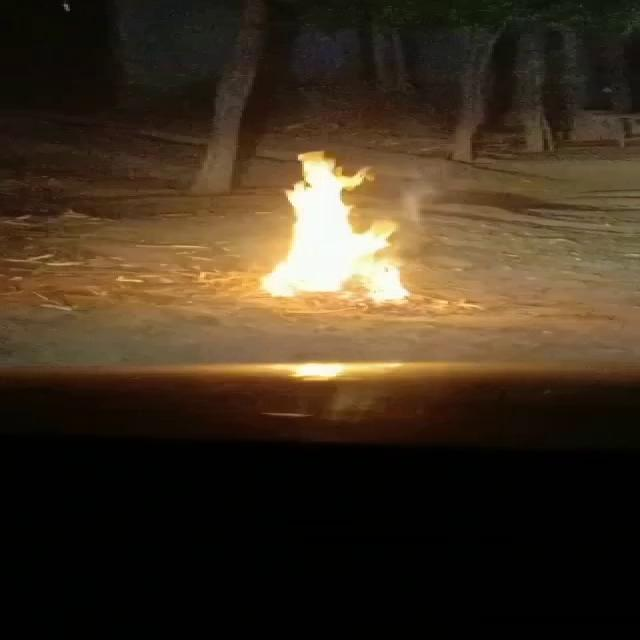Fire: (260, 150, 458, 319)
